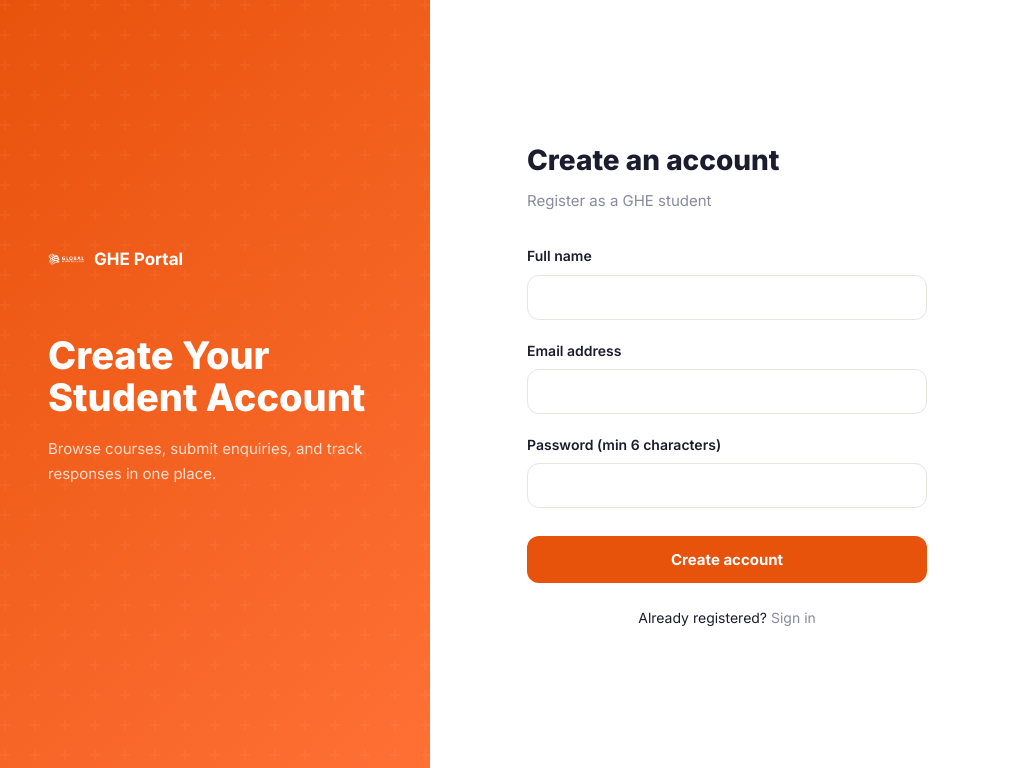
Test: Register › shows server errors inline
The image size is (1024, 768).
Type " Ann " into the field labelled "Full name". click: (727, 297)
box: x1=527 y1=274 x2=927 y2=320
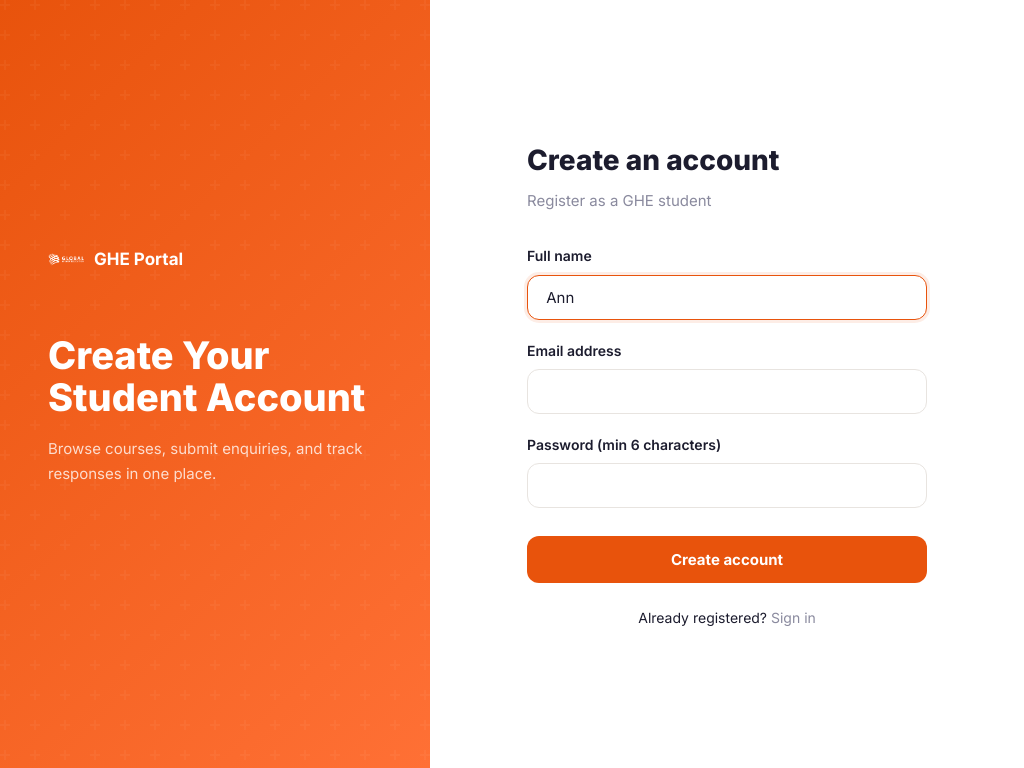
Type "ann@example.com" into the field labelled "Email address". click: (727, 391)
box: x1=527 y1=369 x2=927 y2=414
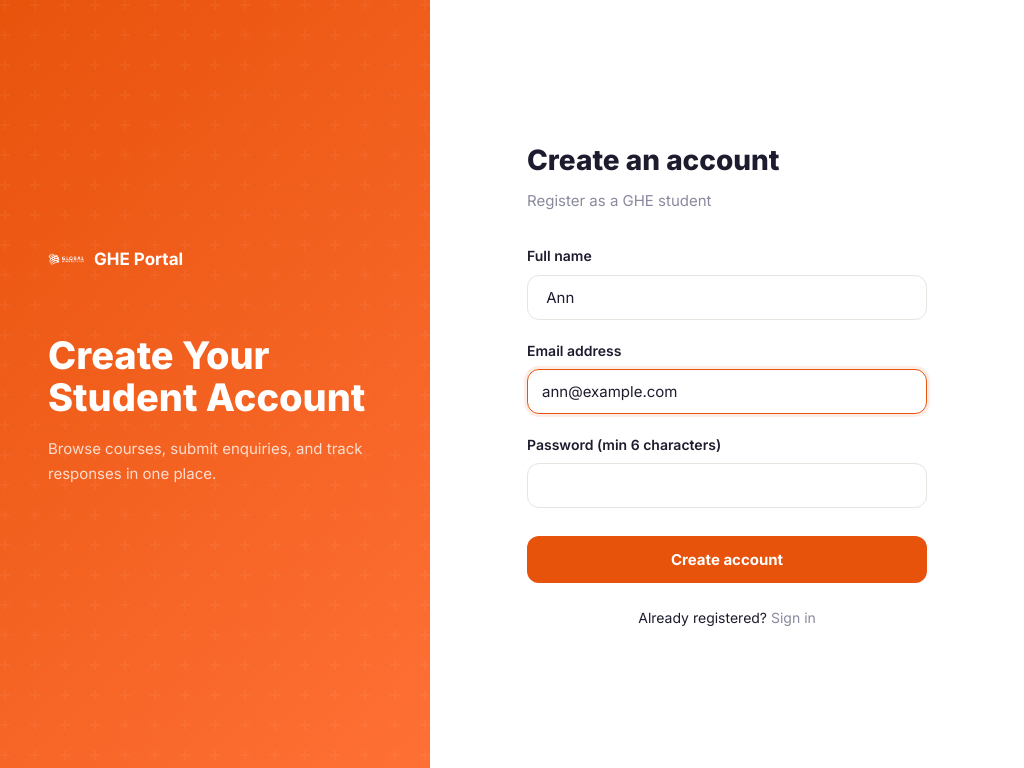
Type "secret1" into the password field labelled "Password (min 6 characters)". click: (727, 486)
box: x1=527 y1=463 x2=927 y2=508
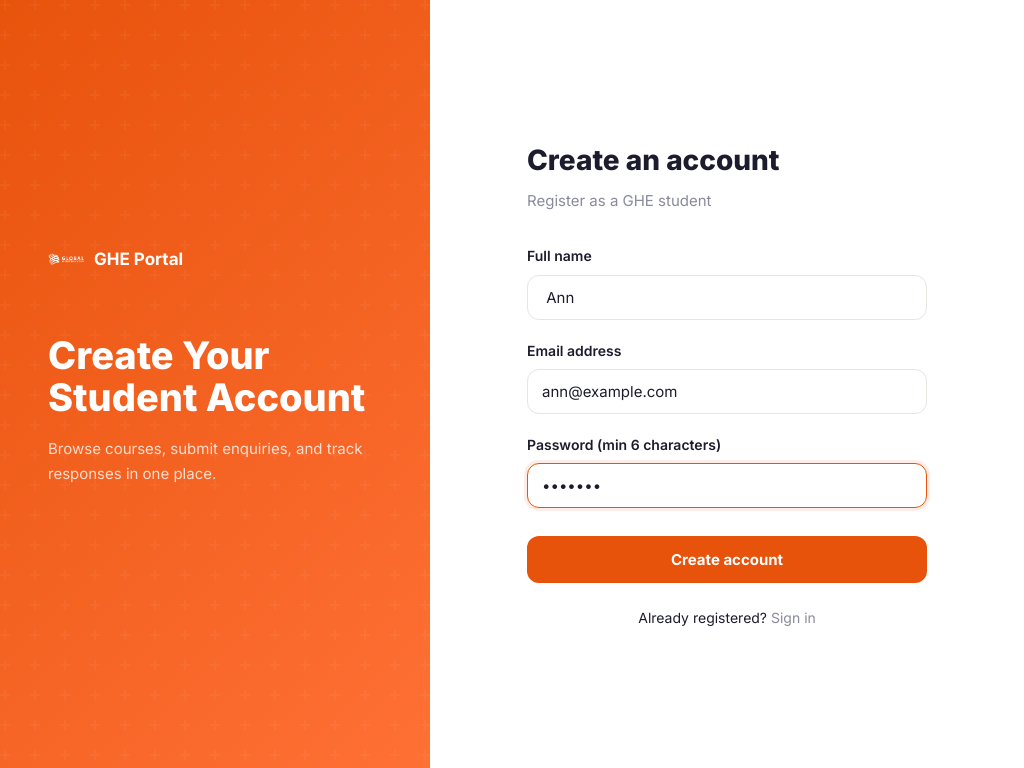
Click the button "Create account". click: (727, 560)
box: x1=527 y1=536 x2=927 y2=583
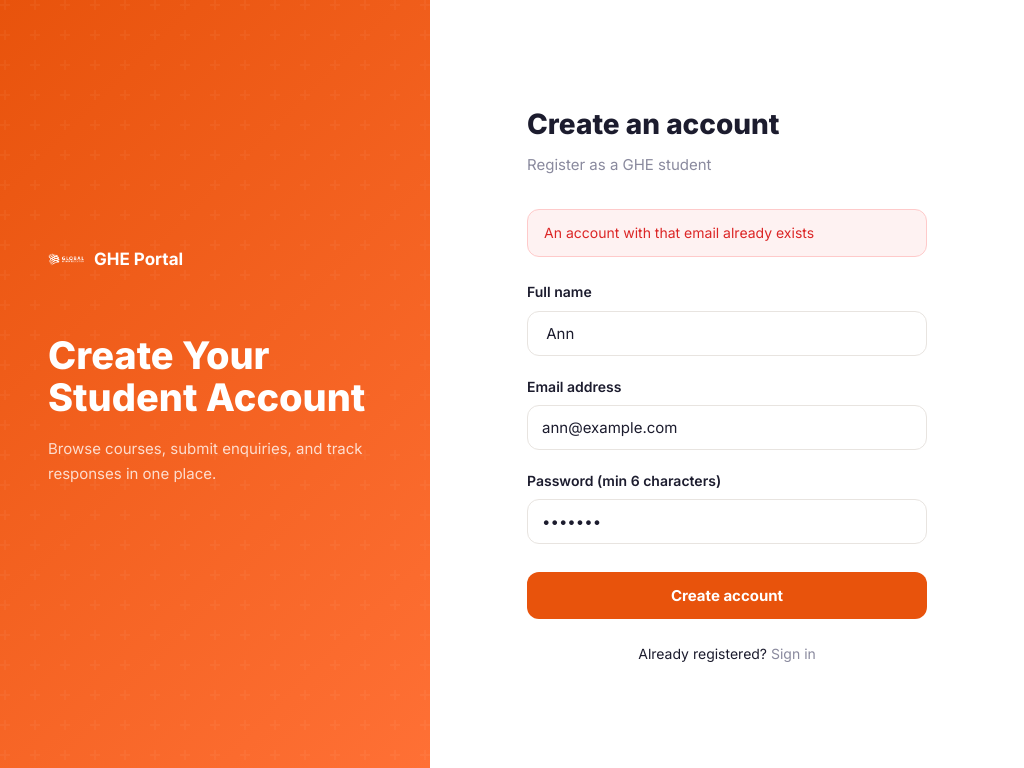
Now the message shows "already exists", box x1=544 y1=224 x2=814 y2=241
